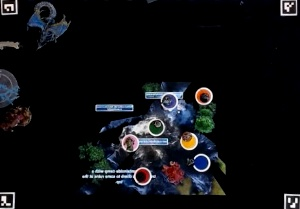blue: (188, 152, 215, 172)
green: (146, 119, 166, 138)
orange: (192, 86, 216, 106)
pink: (118, 134, 142, 153)
red: (130, 166, 156, 187)
violet: (159, 92, 180, 111)
yellow: (179, 130, 197, 151)
